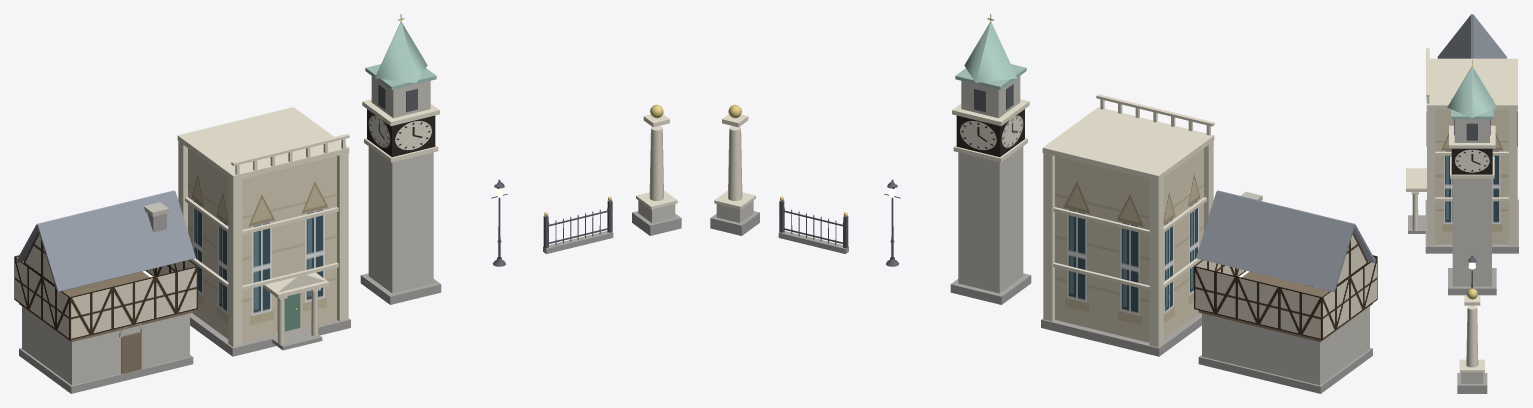
File: kit-24-eropa.glb
The picture shows the model from 3 angles, left to right: view 1: azimuth 30°, elevation 25°; view 2: azimuth 150°, elevation 25°; view 3: azimuth 270°, elevation 25°; orthographic projection. The views are drawn at different scales.
Parts seen in each view (by area): view 1: Eropa_Townhouse, Eropa_RumahTudor, Eropa_MenaraGereja, Eropa_KolomMonumen, Eropa_PagarBesi; view 2: Eropa_Townhouse, Eropa_RumahTudor, Eropa_MenaraGereja, Eropa_KolomMonumen, Eropa_PagarBesi; view 3: Eropa_Townhouse, Eropa_MenaraGereja, Eropa_KolomMonumen, Eropa_RumahTudor, Eropa_LampuGas.
Part boxes in pixels (x1,y1,x2,y2): Eropa_Townhouse: (177, 107, 350, 356); Eropa_RumahTudor: (14, 190, 197, 393); Eropa_MenaraGereja: (360, 14, 441, 304); Eropa_KolomMonumen: (632, 104, 681, 235); Eropa_PagarBesi: (543, 196, 613, 253); Eropa_Townhouse: (1041, 94, 1214, 356); Eropa_RumahTudor: (1194, 190, 1377, 393); Eropa_MenaraGereja: (950, 14, 1031, 304); Eropa_KolomMonumen: (710, 104, 759, 235); Eropa_PagarBesi: (778, 196, 848, 253); Eropa_Townhouse: (1406, 48, 1518, 253); Eropa_MenaraGereja: (1447, 60, 1497, 295); Eropa_KolomMonumen: (1457, 288, 1487, 393); Eropa_RumahTudor: (1426, 14, 1517, 146); Eropa_LampuGas: (1467, 255, 1477, 324).
Bounding box in the file's own units: 32.3 × 13.3 × 6.05.
Materials: 13 (3 with a texture image).
